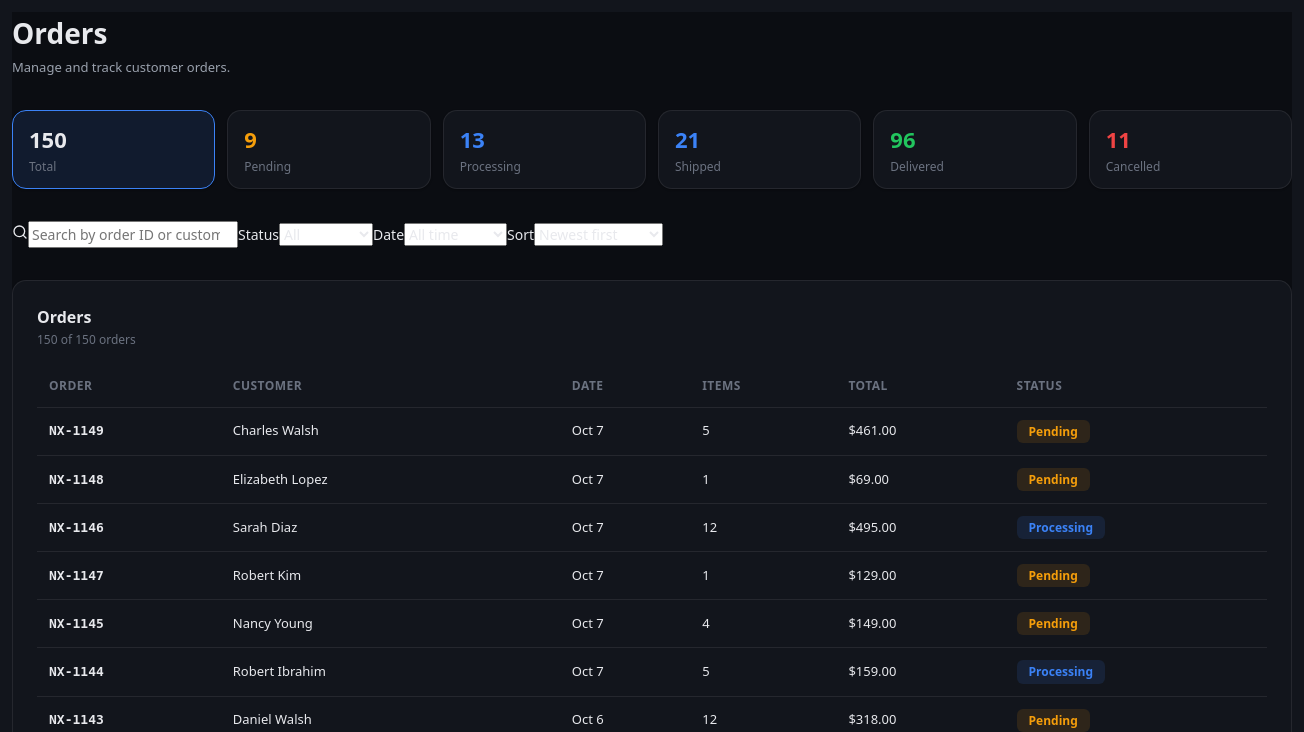
Test: Orders page status summary cards › filters the list to a status when its card is clicked, and marks the card selected
Click the button "9 Pending".
click(329, 149)  # box [227,110,431,188]
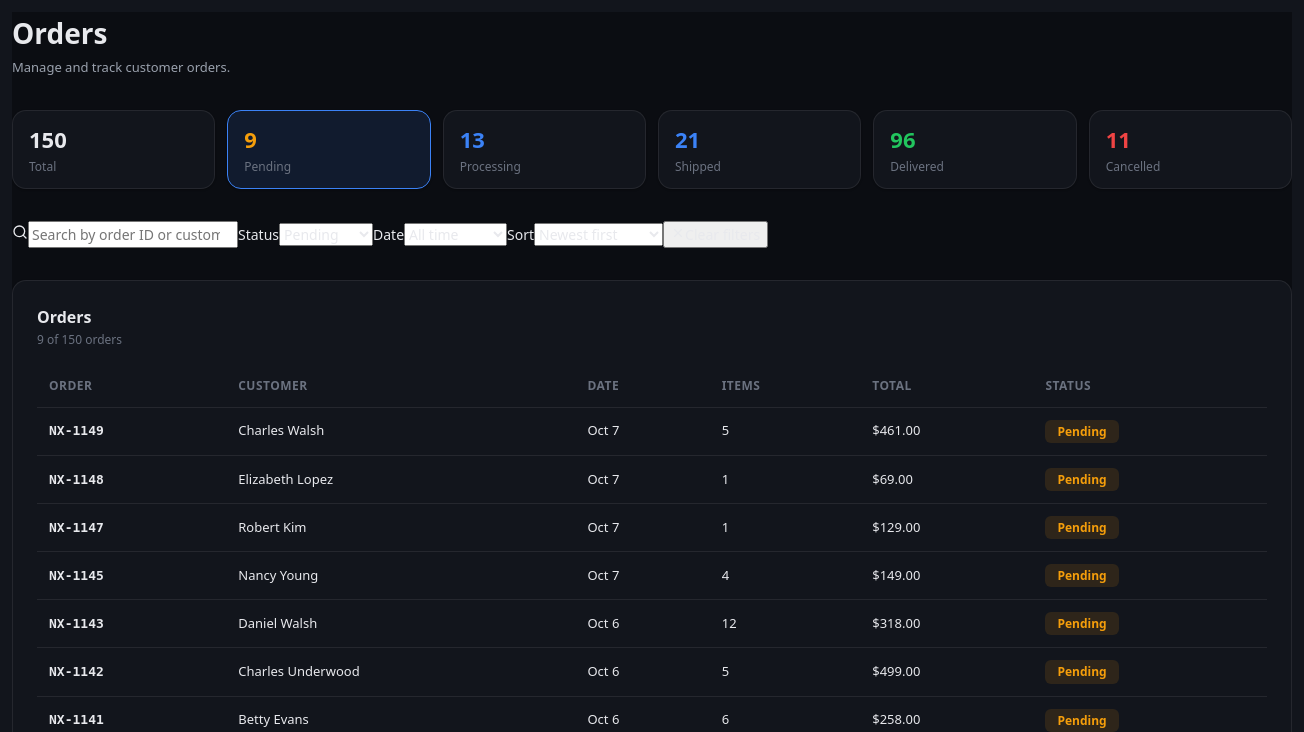
Expected: the dropdown labelled "Status" shows "Pending", [279,222,373,246]
Result: the number of buttons named "view order" is 9
